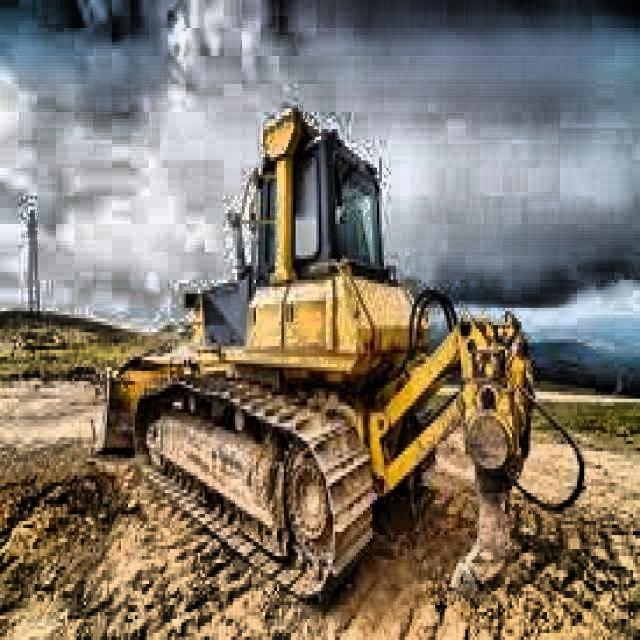bull_dozer/loader/grader: (90, 101, 588, 614)
person: (340, 178, 372, 268)
